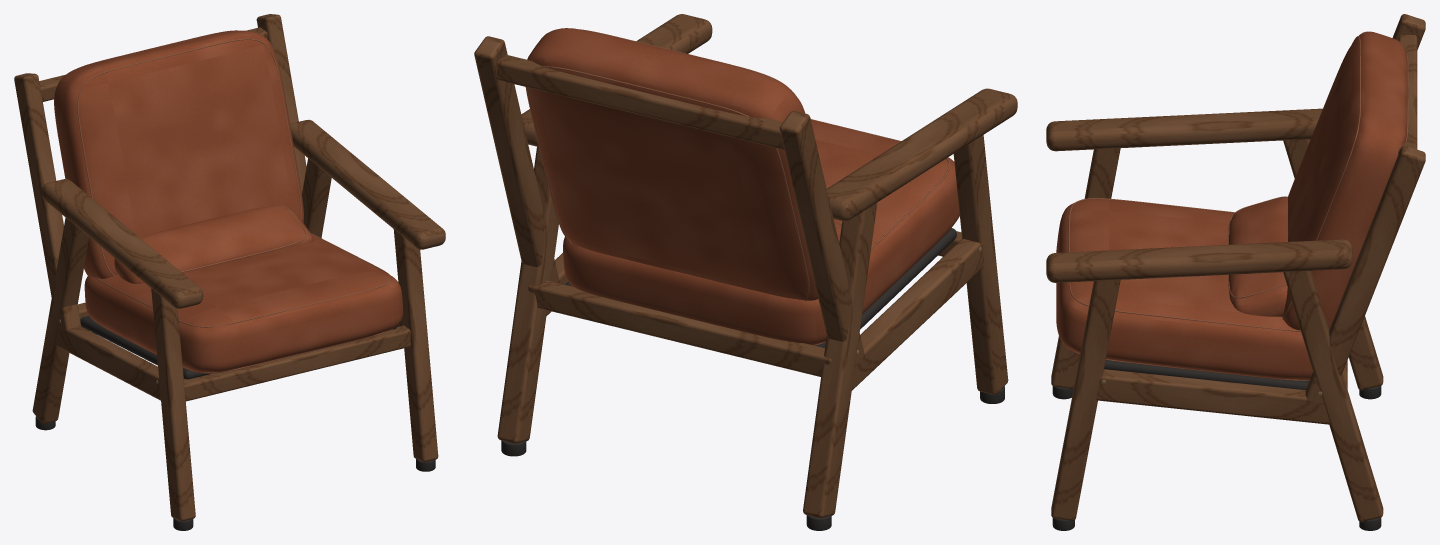
File: leather-walnut-lounge-chair.glb
3 views of the same model, side by side, from view 1: azimuth 30°, elevation 25°; view 2: azimuth 150°, elevation 25°; view 3: azimuth 270°, elevation 25° (orthographic). The views are drawn at different scales.
Visible parts, largest first — view 1: Leather | reclining back pad, Leather | deep crowned seat, Leather | integrated lumbar roll, Walnut | sculpted armrest, Walnut | sculpted armrest.001, Walnut | front raked leg, Walnut | front raked leg.001, Walnut | reclining back stile, Walnut | rear raked leg, Walnut | front cross rail, Walnut | angled seat rail, Walnut | reclining back stile.001 (+4 smaller); view 2: Leather | reclining back pad, Leather | deep crowned seat, Walnut | rear raked leg, Walnut | sculpted armrest, Walnut | rear cross rail, Walnut | reclining back stile, Walnut | front raked leg, Walnut | reclining back stile.001, Walnut | upper back cross rail, Walnut | rear raked leg.001, Walnut | angled seat rail, Walnut | sculpted armrest.001 (+2 smaller); view 3: Leather | deep crowned seat, Leather | reclining back pad, Walnut | sculpted armrest.001, Walnut | sculpted armrest, Walnut | angled seat rail.001, Walnut | rear raked leg.001, Walnut | reclining back stile.001, Walnut | front raked leg.001, Leather | integrated lumbar roll, Walnut | front raked leg, Walnut | rear raked leg, Seat | concealed support panel (+3 smaller).
Part boxes in pixels (left/top/right/bottom): Leather | reclining back pad: left=54, top=30, right=303, bottom=278; Leather | deep crowned seat: left=84, top=234, right=403, bottom=372; Leather | integrated lumbar roll: left=114, top=206, right=313, bottom=283; Walnut | sculpted armrest: left=41, top=179, right=203, bottom=308; Walnut | sculpted armrest.001: left=290, top=119, right=445, bottom=249; Walnut | front raked leg: left=151, top=288, right=195, bottom=521; Walnut | front raked leg.001: left=393, top=229, right=438, bottom=462; Walnut | reclining back stile: left=14, top=73, right=81, bottom=331; Walnut | rear raked leg: left=32, top=217, right=88, bottom=423; Walnut | front cross rail: left=184, top=325, right=410, bottom=401; Walnut | angled seat rail: left=55, top=326, right=160, bottom=400; Walnut | reclining back stile.001: left=256, top=14, right=306, bottom=193; Leather | reclining back pad: left=525, top=28, right=818, bottom=300; Leather | deep crowned seat: left=563, top=120, right=959, bottom=345; Walnut | rear raked leg: left=803, top=203, right=877, bottom=518; Walnut | sculpted armrest: left=827, top=88, right=1017, bottom=221; Walnut | rear cross rail: left=528, top=280, right=831, bottom=376; Walnut | reclining back stile: left=779, top=111, right=864, bottom=366; Walnut | front raked leg: left=953, top=135, right=1008, bottom=394; Walnut | reclining back stile.001: left=474, top=36, right=558, bottom=282; Walnut | upper back cross rail: left=495, top=55, right=784, bottom=149; Walnut | rear raked leg.001: left=497, top=146, right=558, bottom=443; Walnut | angled seat rail: left=851, top=238, right=984, bottom=390; Walnut | sculpted armrest.001: left=521, top=14, right=712, bottom=146; Leather | deep crowned seat: left=1056, top=199, right=1312, bottom=380; Leather | reclining back pad: left=1282, top=31, right=1407, bottom=330; Walnut | sculpted armrest.001: left=1046, top=239, right=1352, bottom=282; Walnut | sculpted armrest: left=1046, top=108, right=1322, bottom=151; Walnut | angled seat rail.001: left=1096, top=369, right=1329, bottom=424; Walnut | rear raked leg.001: left=1283, top=271, right=1383, bottom=522; Walnut | reclining back stile.001: left=1305, top=145, right=1425, bottom=404; Walnut | front raked leg.001: left=1051, top=280, right=1120, bottom=520; Leather | integrated lumbar roll: left=1229, top=197, right=1287, bottom=316; Walnut | front raked leg: left=1051, top=148, right=1120, bottom=389; Walnut | rear raked leg: left=1283, top=139, right=1383, bottom=390; Seat | concealed support panel: left=1104, top=360, right=1309, bottom=389.
Bounding box in the file's own units: 0.791 × 0.9638 × 0.8571.
Materials: 5 (2 with a texture image).
